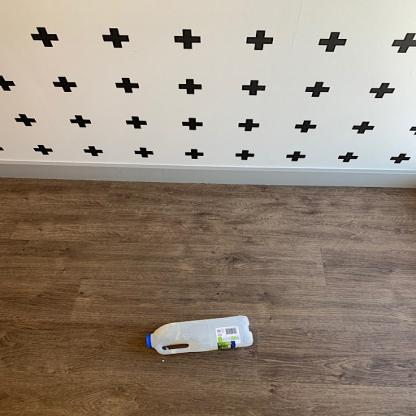trash: (143, 315, 251, 357)
